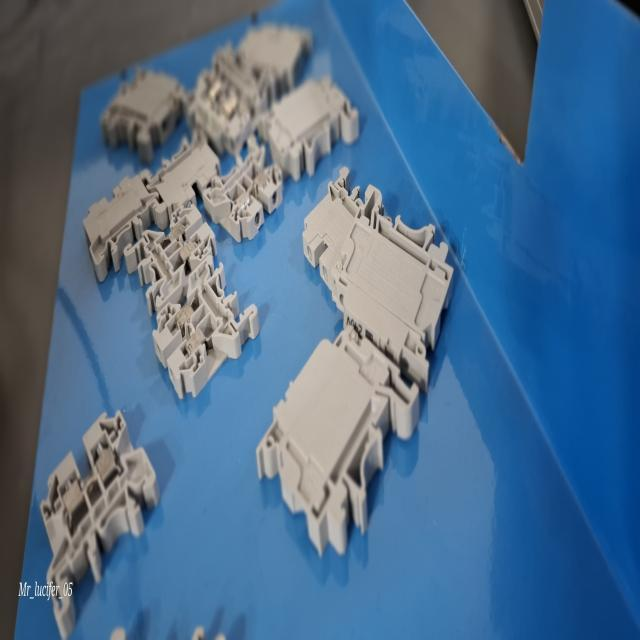Pass: (34, 392, 156, 640), (149, 249, 261, 396), (130, 199, 219, 313), (204, 134, 286, 242)
